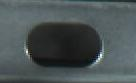holes: (23, 19, 109, 73)
